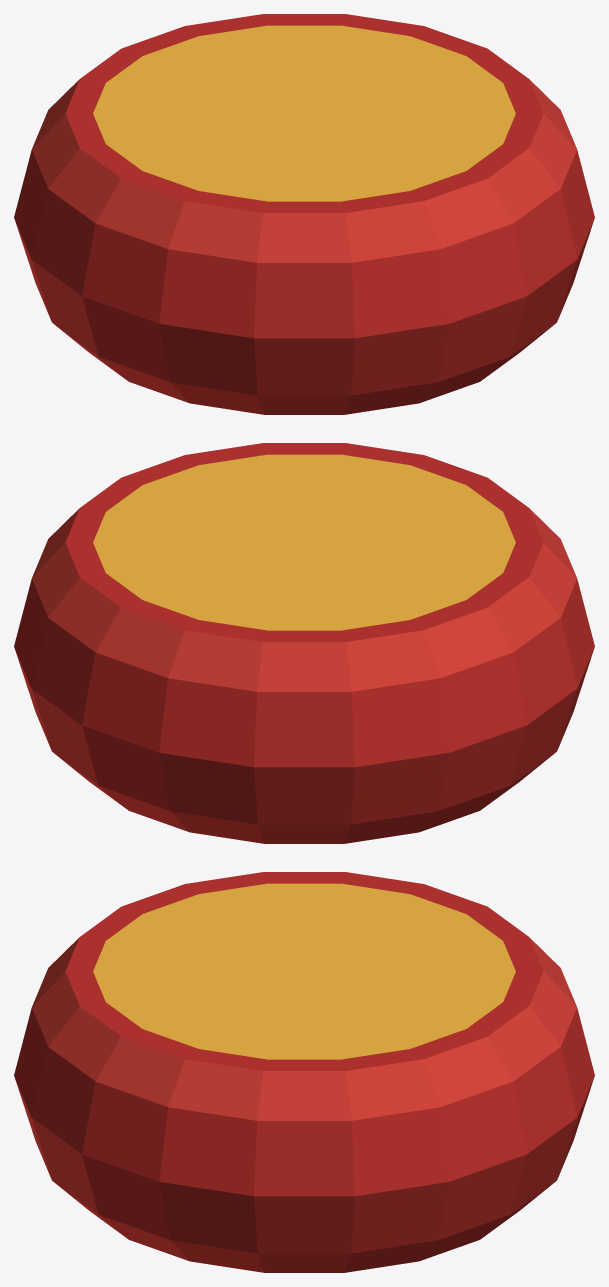
The model's file is FMS_Food_Cheese_Wheel.fbx.
3 views of the same model, one above another, from view 1: azimuth 30°, elevation 25°; view 2: azimuth 150°, elevation 25°; view 3: azimuth 270°, elevation 25° (orthographic).
Visible parts, largest first — view 1: item_food_cheese_wheel; view 2: item_food_cheese_wheel; view 3: item_food_cheese_wheel.
Boxes of the visible parts, box(x1,y1,x2,y2) form: item_food_cheese_wheel: box(14, 14, 594, 414); item_food_cheese_wheel: box(14, 443, 594, 843); item_food_cheese_wheel: box(14, 872, 594, 1272).
Size of the model in its own units: 0.2895 by 0.115 by 0.294.
1 material, 1 textured.
